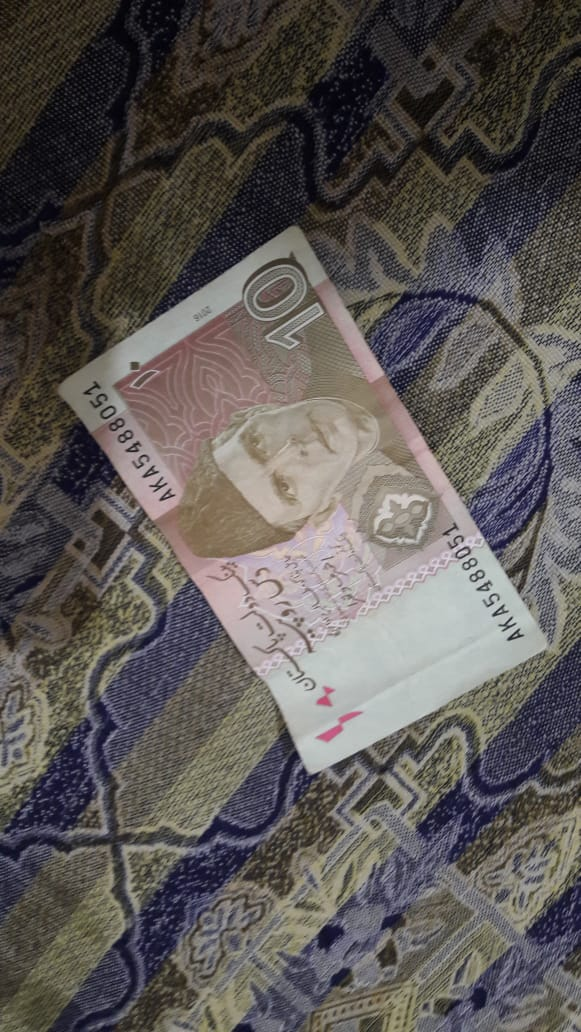10 rupee: (49, 215, 563, 773)
